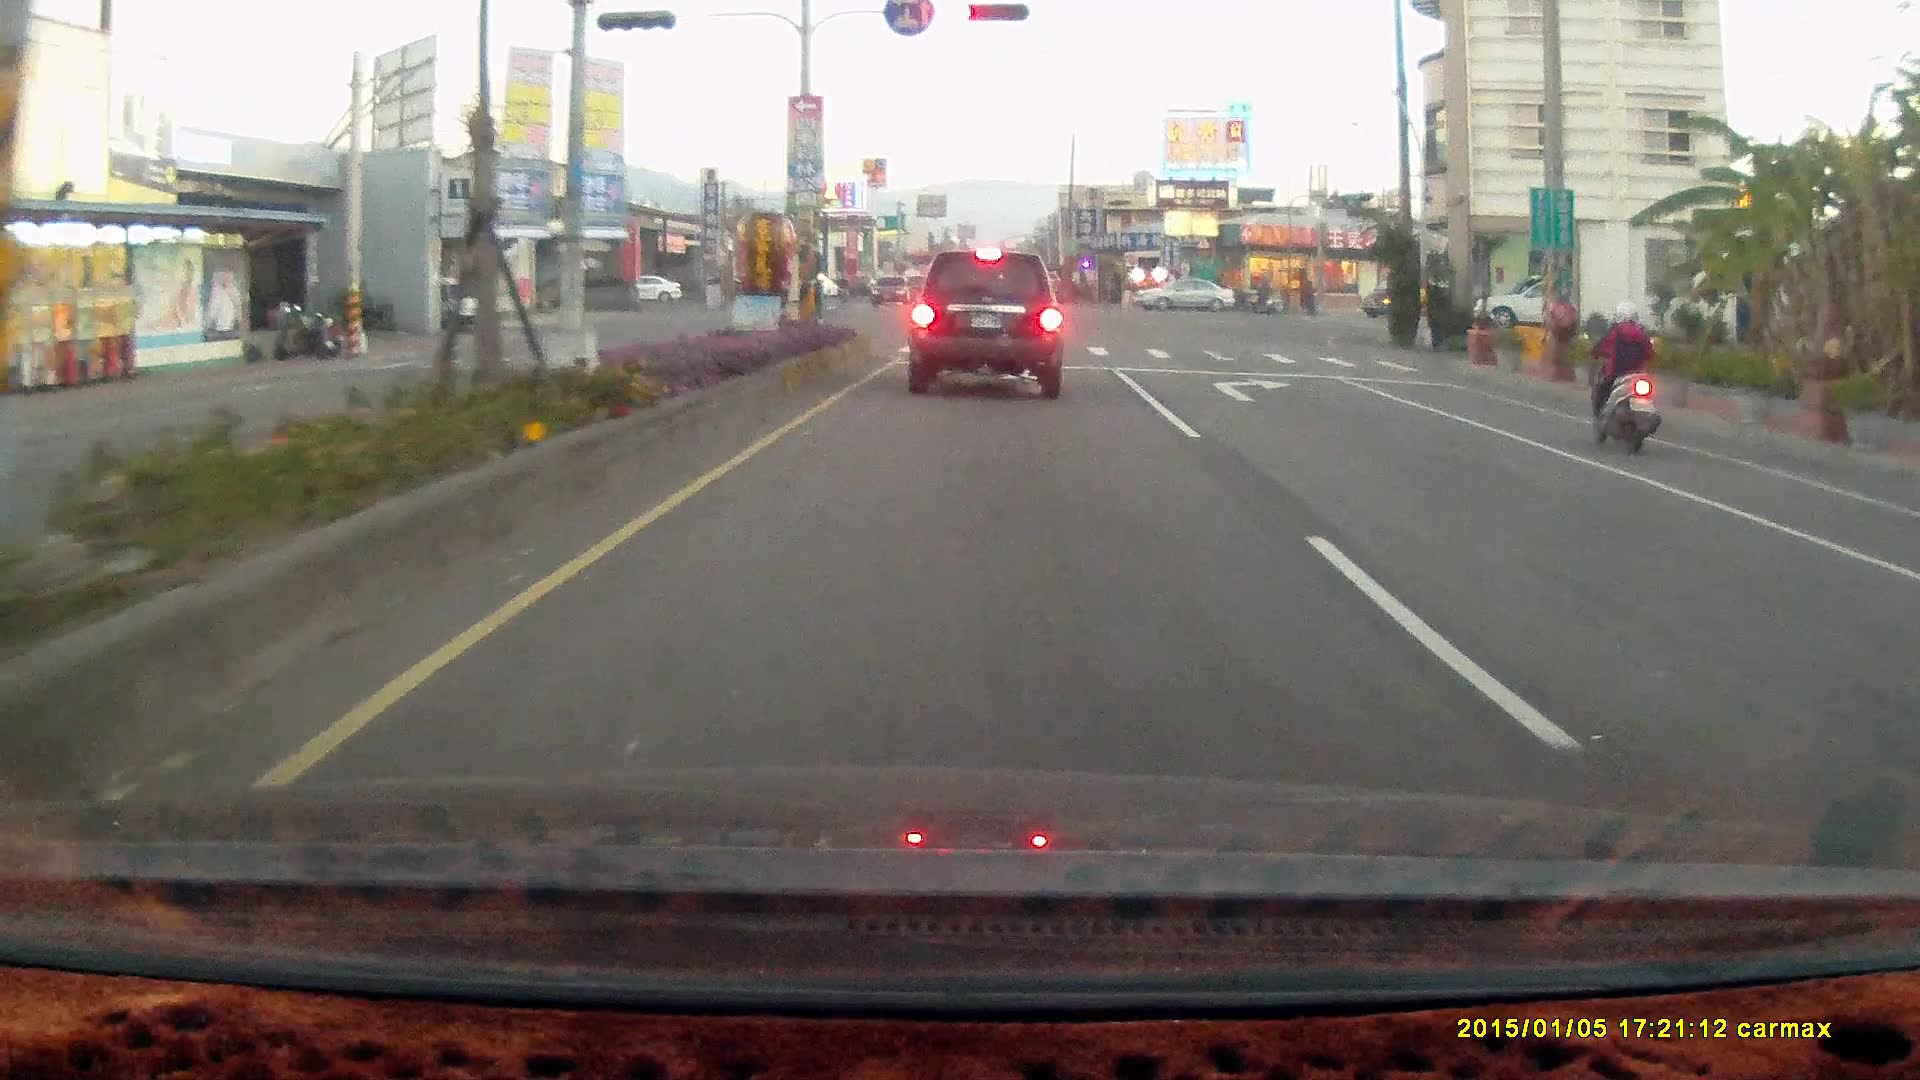rider: (1582, 303, 1663, 462), (1242, 274, 1281, 316)
vehicle: (906, 249, 1064, 397), (1474, 272, 1606, 334), (1896, 493, 1920, 836), (1473, 277, 1591, 338), (1883, 528, 1920, 690), (1130, 276, 1238, 316), (429, 279, 506, 333), (1129, 276, 1236, 314)
